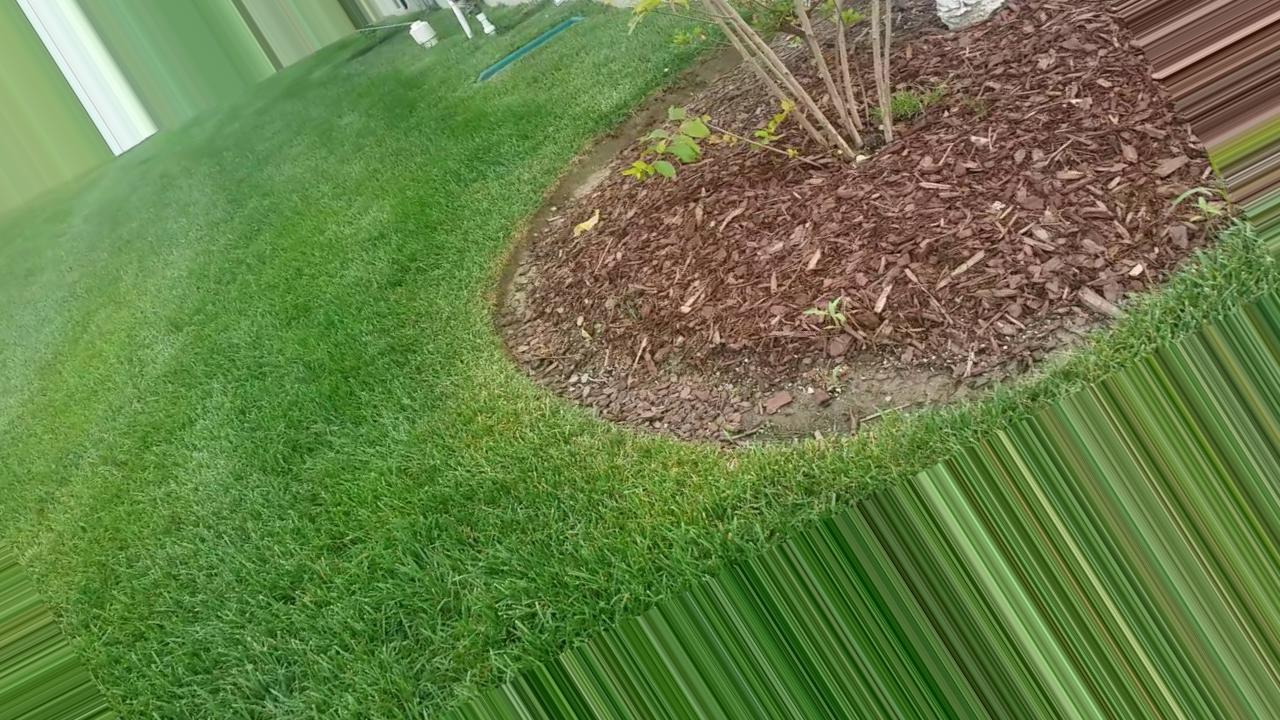patch: (549, 207, 1107, 353), (924, 31, 1118, 314), (623, 326, 928, 411), (576, 182, 914, 215)
